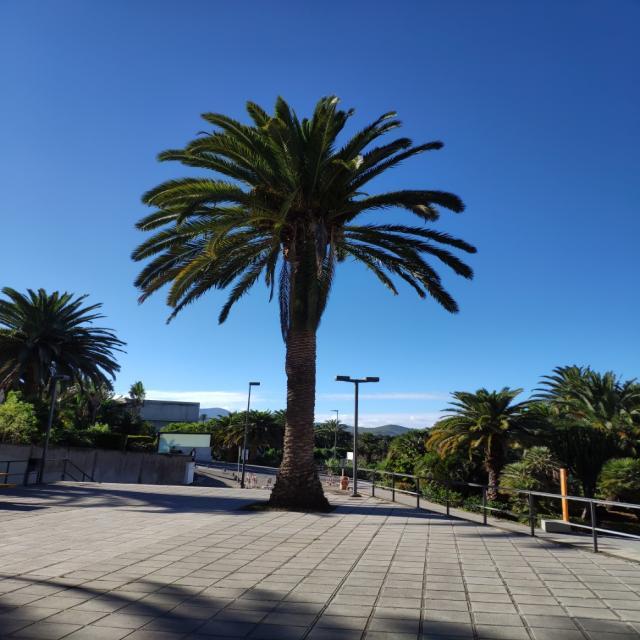Palm-Trees: (129, 92, 483, 510)
